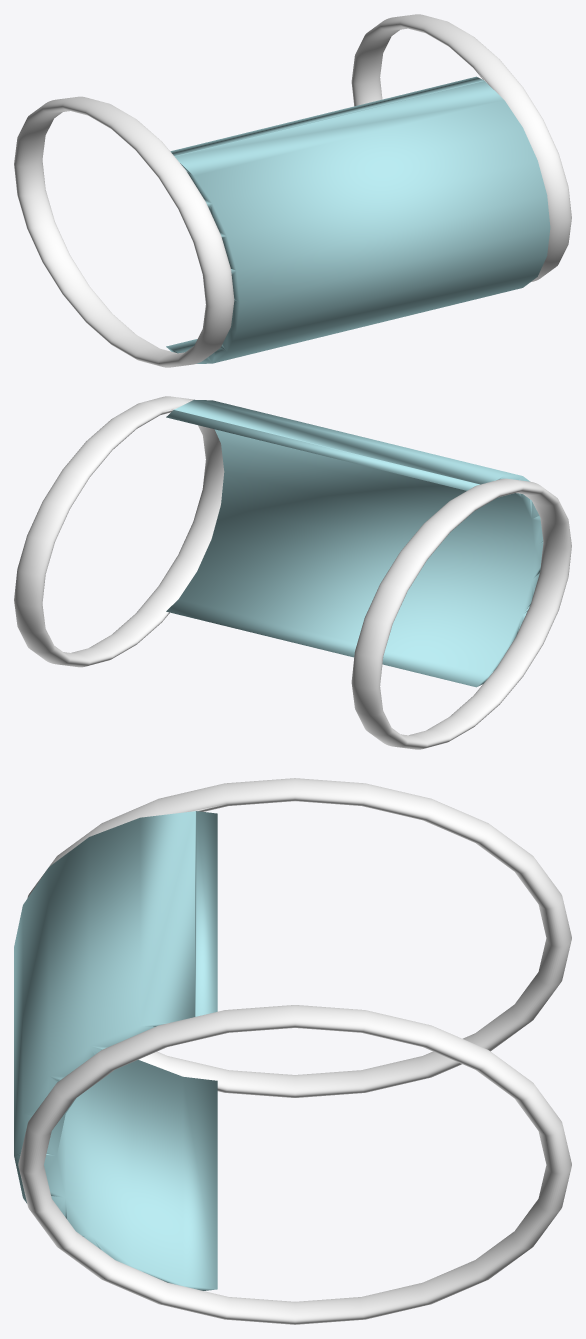
Rendered from mask.fbx.
3 renders of one model, top to bottom at view 1: azimuth 30°, elevation 25°; view 2: azimuth 150°, elevation 25°; view 3: azimuth 270°, elevation 25°, orthographic. The views are drawn at different scales.
Parts seen in each view (by area): view 1: obj_0; view 2: obj_0; view 3: obj_0.
Part boxes in pixels (<box>): obj_0: <box>14,14,571,367</box>; obj_0: <box>14,396,571,749</box>; obj_0: <box>14,778,571,1324</box>.
Bounding box in the file's own units: 2700 × 1600 × 2600.
